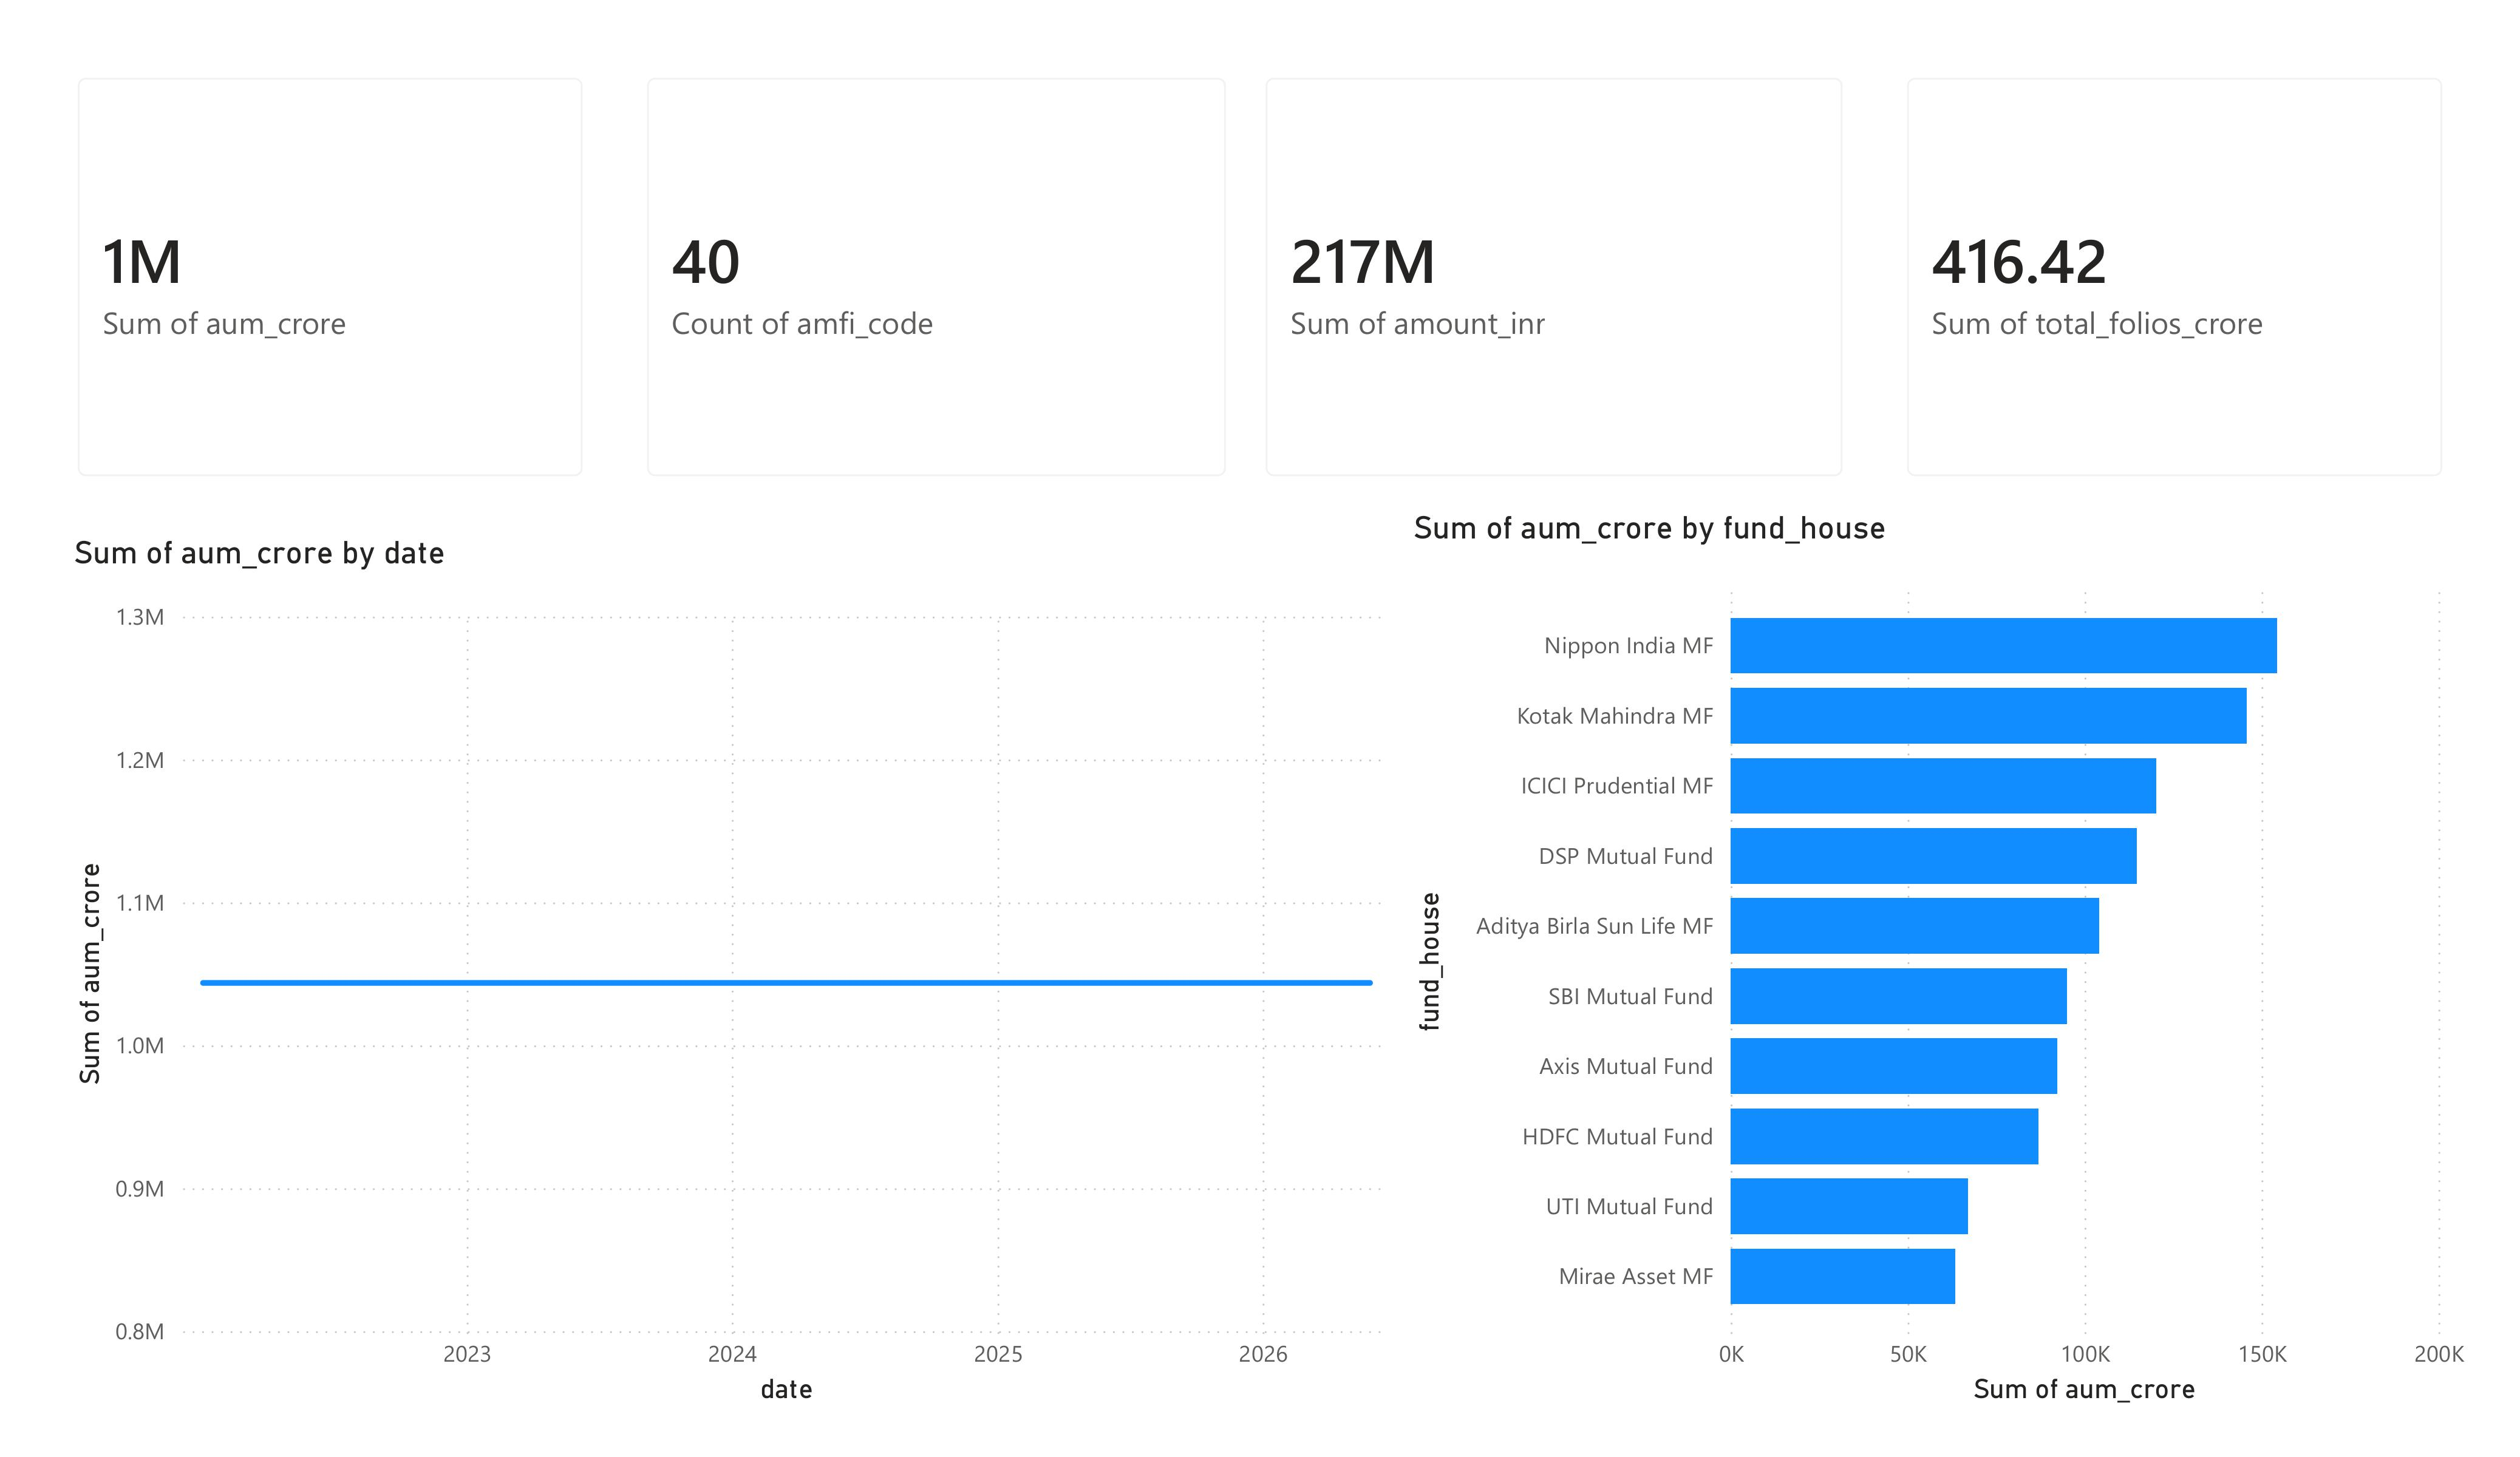

This screenshot's page, from the dashboard's own definition file:
{"tool":"powerbi","page":{"name":"Industry Overview","canvas":[1280,720],"ordinal":0},"visuals":[{"type":"cardVisual","fields":{"Data":["Sum(07_scheme_performance.aum_crore)"]},"box":[0,0,299.8,243.5],"z":0},{"type":"cardVisual","fields":{"Data":["Sum(08_investor_transactions.amount_inr)"]},"box":[626.1,0,337.9,243.5],"z":1},{"type":"cardVisual","fields":{"Data":["Sum(06_industry_folio_count.total_folios_crore)"]},"box":[964.1,0,316.4,243.5],"z":2},{"type":"cardVisual","fields":{"Data":["Count(07_scheme_performance.amfi_code)"]},"box":[299.8,0,339.6,243.5],"z":3},{"type":"lineChart","fields":{"Category":["10_benchmark_indices.date"],"Y":["Sum(07_scheme_performance.aum_crore)"]},"box":[9.9,256.8,705.7,463.8],"z":4},{"type":"clusteredBarChart","fields":{"Category":["07_scheme_performance.fund_house"],"Y":["Sum(07_scheme_performance.aum_crore)"]},"box":[715.6,243.5,564.9,477.1],"z":5}]}

Visuals, with their boxes on the page's 1280x720 design canvas (x1, y1, x2, y2). These are canvas units, not pixel positions in the 2520x1457 screenshot, which may show the page scaled, cropped or inside an application window:
cardVisual - Sum(07_scheme_performance.aum_crore): (x1=0, y1=0, x2=300, y2=244)
cardVisual - Sum(08_investor_transactions.amount_inr): (x1=626, y1=0, x2=964, y2=244)
cardVisual - Sum(06_industry_folio_count.total_folios_crore): (x1=964, y1=0, x2=1280, y2=244)
cardVisual - Count(07_scheme_performance.amfi_code): (x1=300, y1=0, x2=639, y2=244)
lineChart - 10_benchmark_indices.date x Sum(07_scheme_performance.aum_crore): (x1=10, y1=257, x2=716, y2=721)
clusteredBarChart - 07_scheme_performance.fund_house x Sum(07_scheme_performance.aum_crore): (x1=716, y1=244, x2=1280, y2=721)
